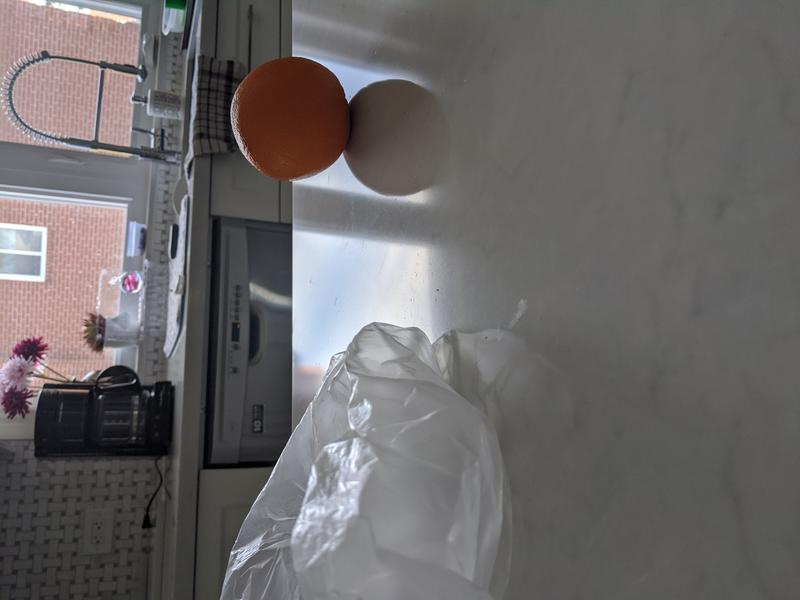orange: (230, 57, 353, 181)
